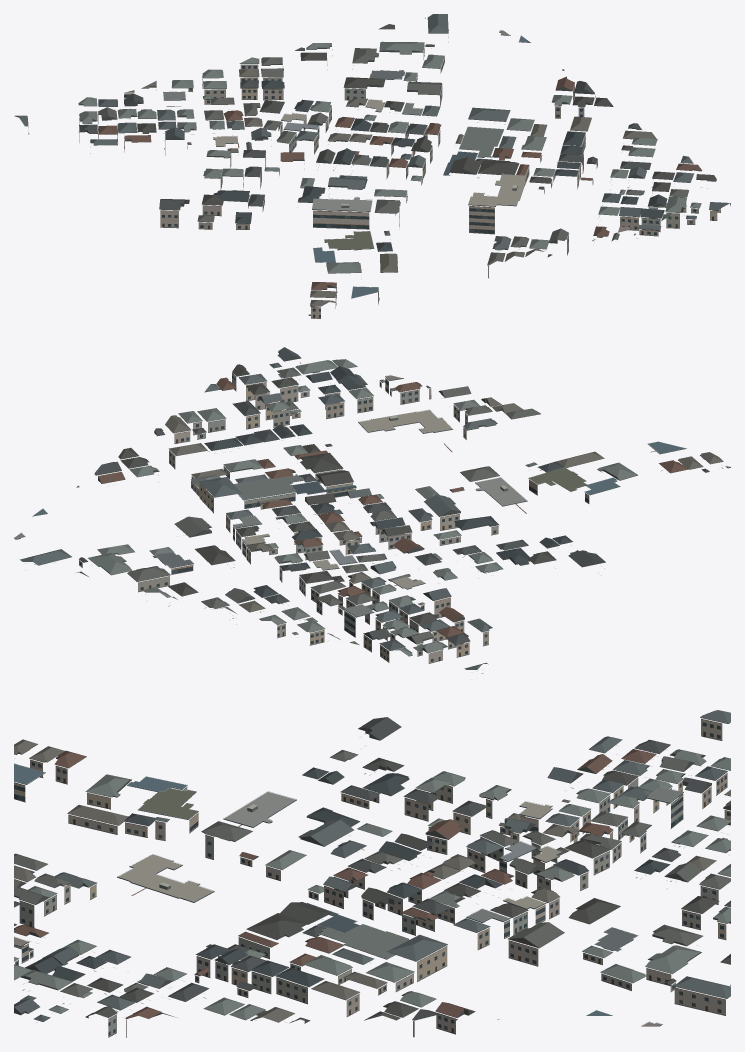
3 views of the same model, one above another, from view 1: azimuth 30°, elevation 25°; view 2: azimuth 150°, elevation 25°; view 3: azimuth 270°, elevation 25° (orthographic). The views are drawn at different scales.
Visible parts, largest first — view 1: r2-c0; view 2: r2-c0; view 3: r2-c0.
Part boxes in pixels (<box>): r2-c0: <box>14,14,730,318</box>; r2-c0: <box>14,347,730,673</box>; r2-c0: <box>14,710,730,1037</box>.
Bounding box in the file's own units: 250 × 15.7 × 250.
